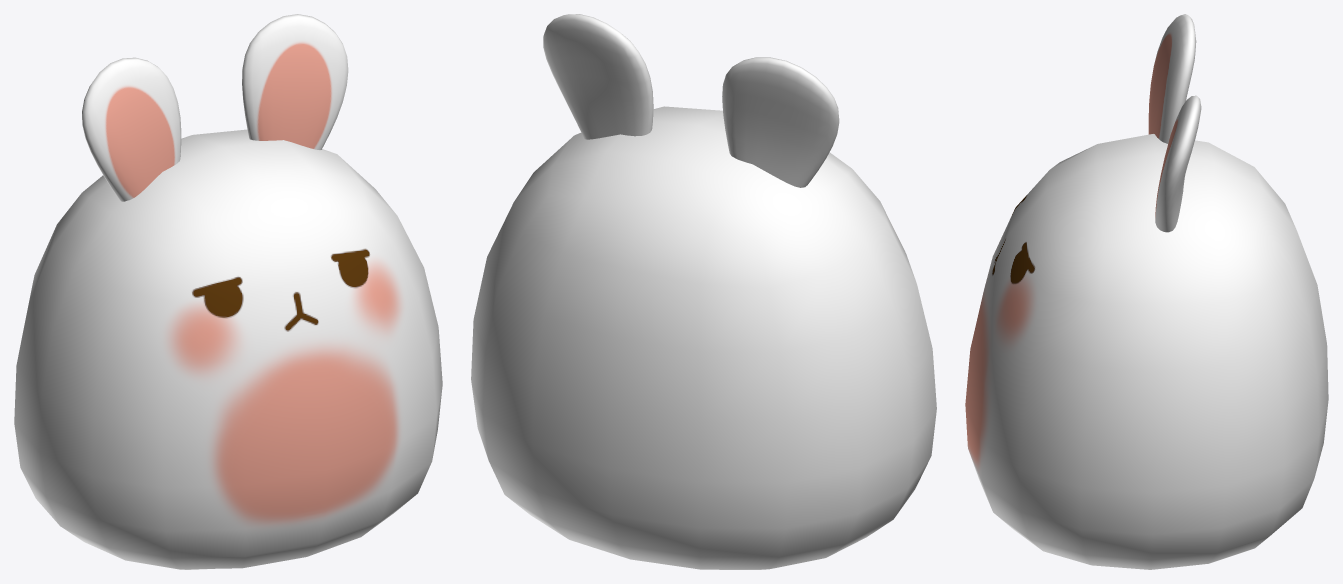
File: ball12.fbx
3 views of the same model, side by side, from view 1: azimuth 30°, elevation 25°; view 2: azimuth 150°, elevation 25°; view 3: azimuth 270°, elevation 25° (orthographic). The views are drawn at different scales.
Parts seen in each view (by area): view 1: LowPolySphere10; view 2: LowPolySphere10; view 3: LowPolySphere10.
Part boxes in pixels (x1,y1,x2,y2): LowPolySphere10: (14, 14, 442, 569); LowPolySphere10: (471, 14, 936, 569); LowPolySphere10: (965, 14, 1328, 569).
Size of the model in its own units: 106 by 126 by 89.21.
